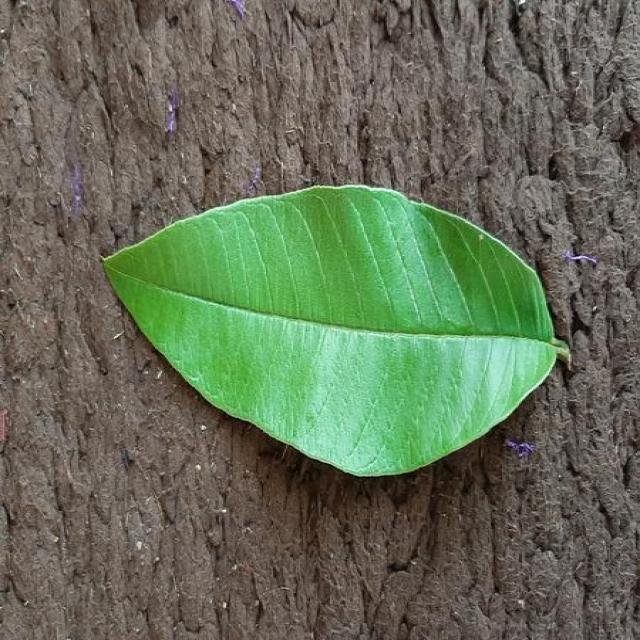leaf: (99, 182, 570, 478)
